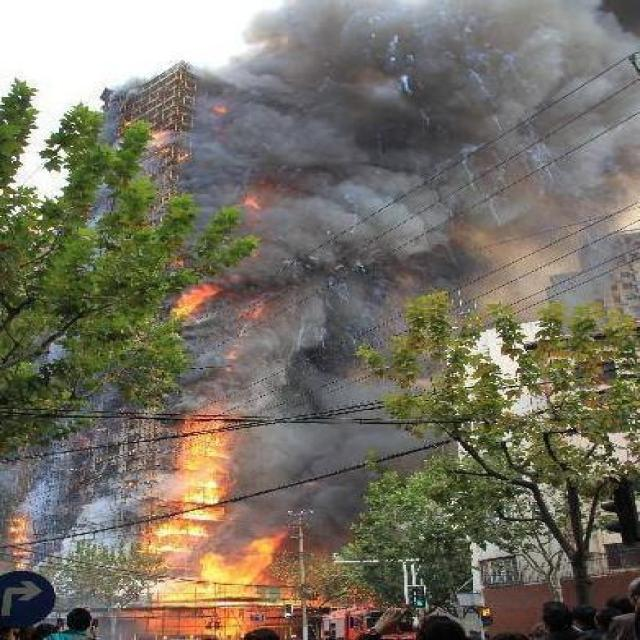fire: (154, 412, 301, 607), (172, 283, 260, 351)
smoke: (195, 0, 597, 372)
